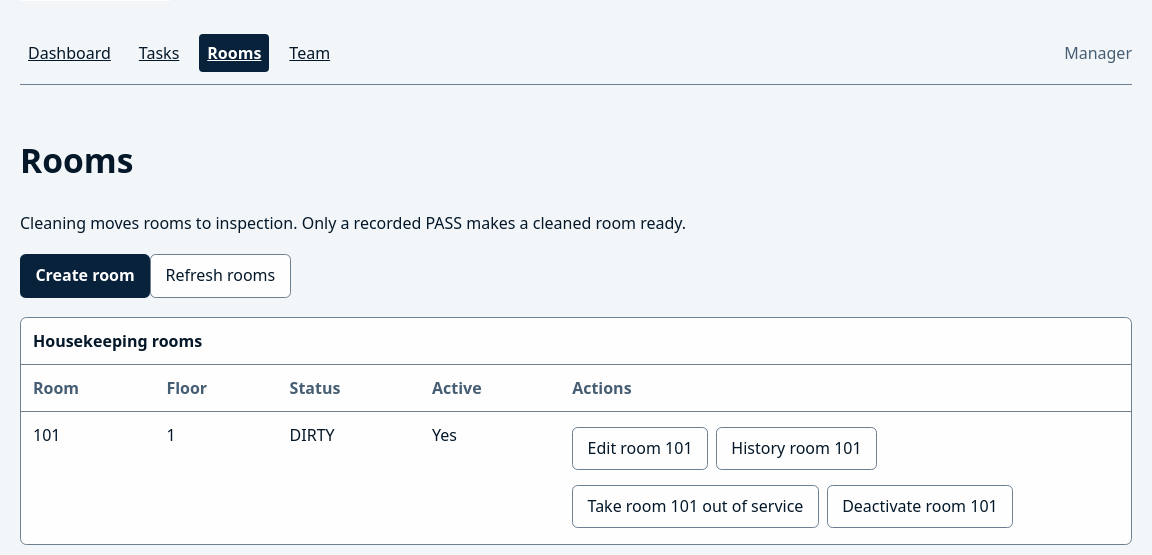
Scenario: Loading, errors, refresh and focus › refuses native dialog close during a pending save
Expected: the table is shown, left=21, top=318, right=1131, bottom=544
Click the button "Edit room 101" at (640, 449), box left=572, top=427, right=708, bottom=470
(page scrolled)
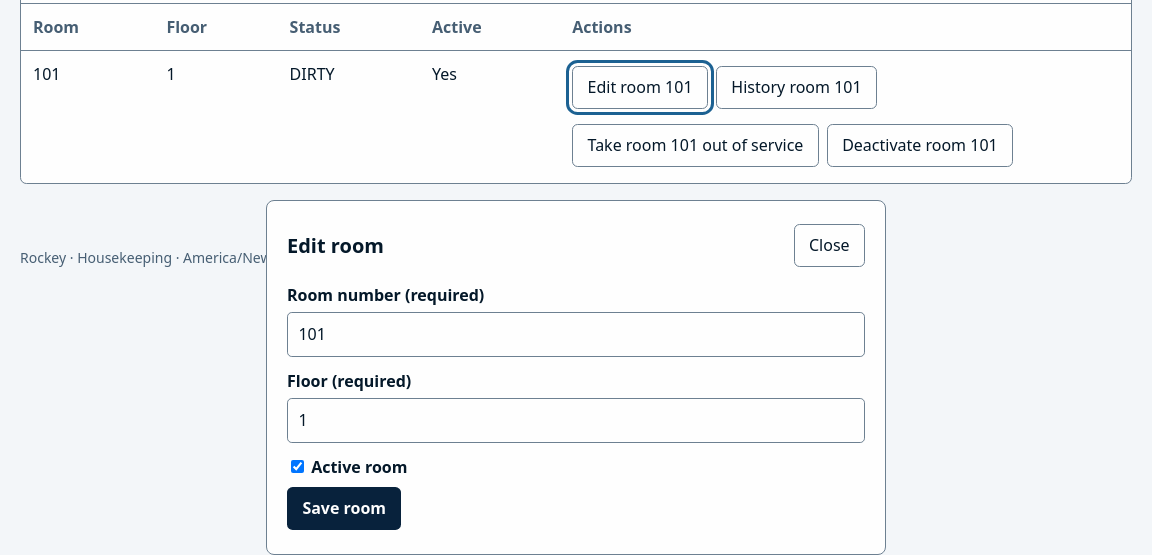
Click the button "Save room" at (344, 509), box left=287, top=487, right=402, bottom=530
(page scrolled)
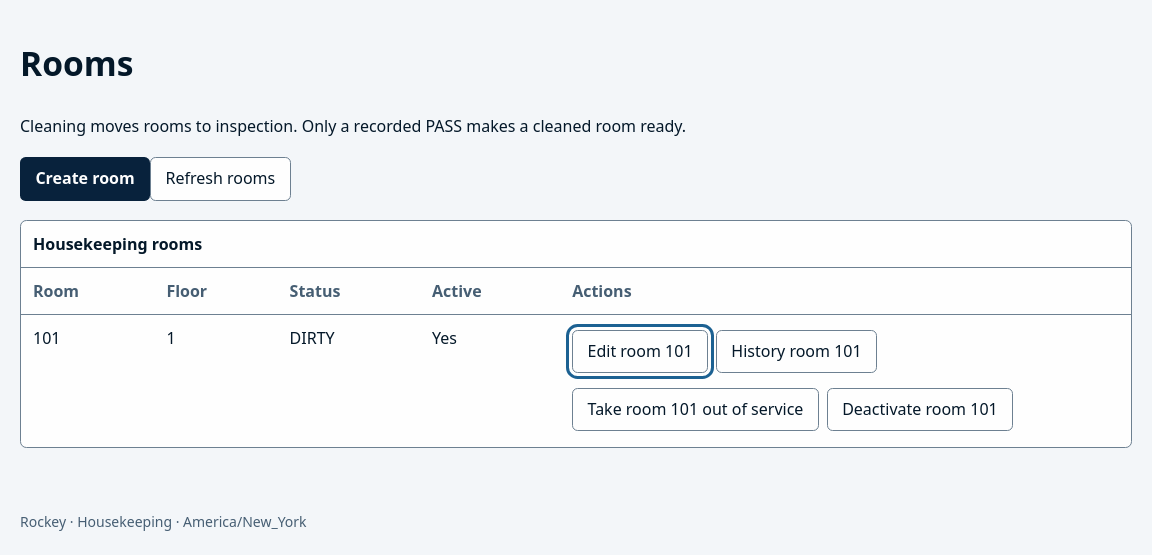
Result: the dialog is gone
